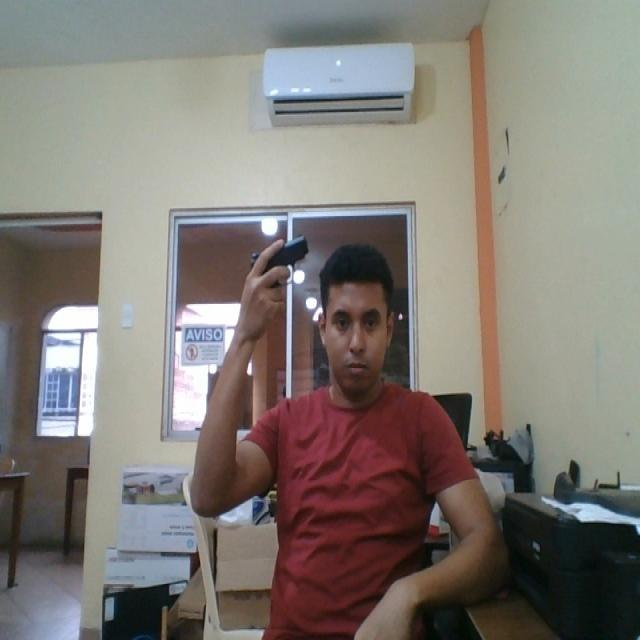weapon: (249, 233, 309, 288)
